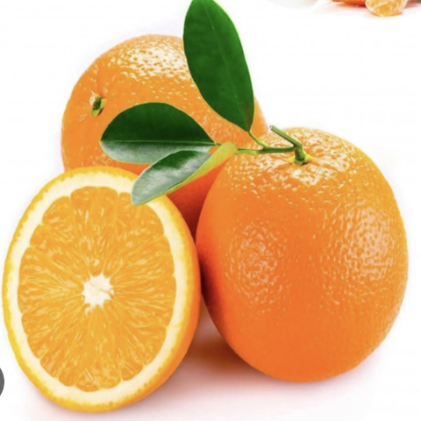orange: (180, 100, 418, 395), (54, 29, 290, 268)
